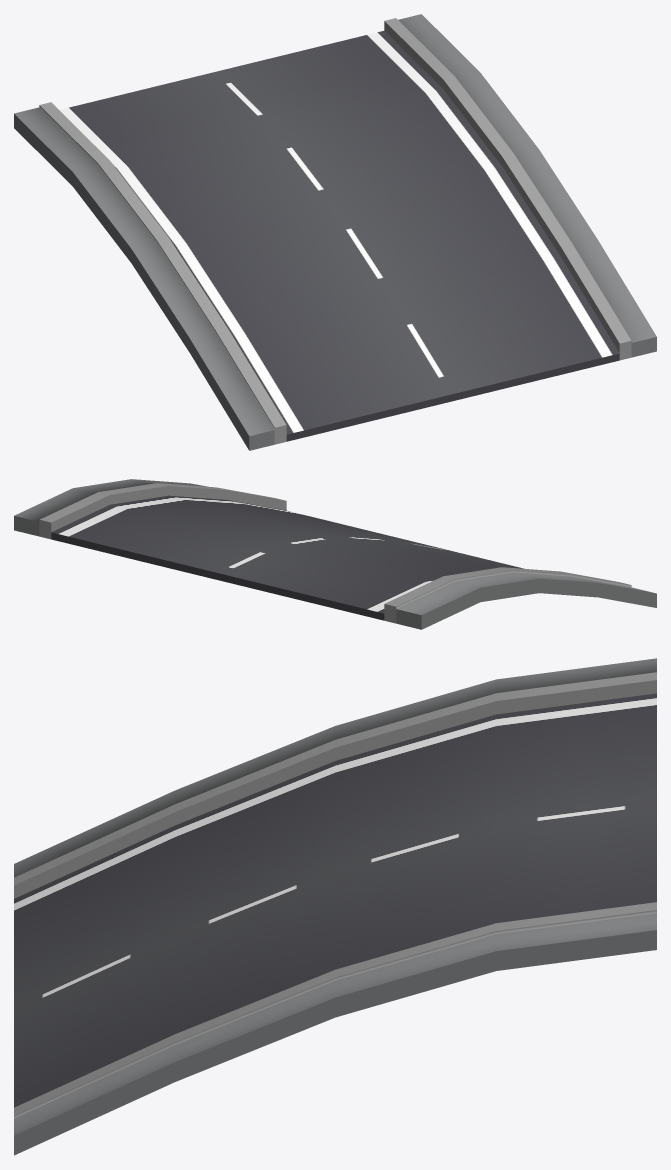
File: Road1Ramp2.fbx
The picture shows the model from 3 angles, top to bottom: view 1: azimuth 30°, elevation 25°; view 2: azimuth 150°, elevation 25°; view 3: azimuth 270°, elevation 25°; orthographic projection. The views are drawn at different scales.
Visible parts, largest first — view 1: Road1Ramp2; view 2: Road1Ramp2; view 3: Road1Ramp2.
Part boxes in pixels (x1=…): Road1Ramp2: x1=14, y1=14, x2=656, y2=450; Road1Ramp2: x1=14, y1=479, x2=656, y2=629; Road1Ramp2: x1=14, y1=658, x2=656, y2=1155.
Size of the model in its own units: 12 by 4.71 by 12.
